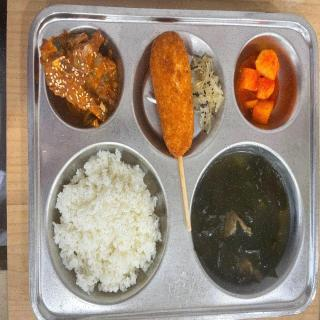Nasi: (50, 159, 166, 303)
